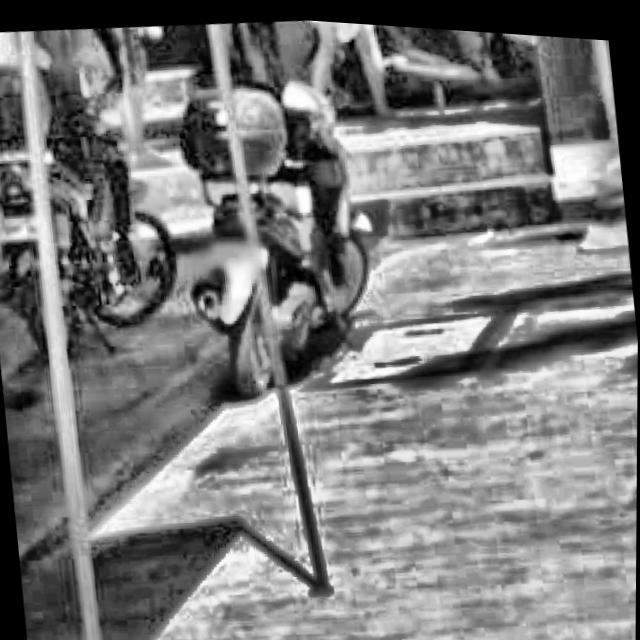motorcycle: (151, 49, 415, 409), (0, 16, 178, 364)
